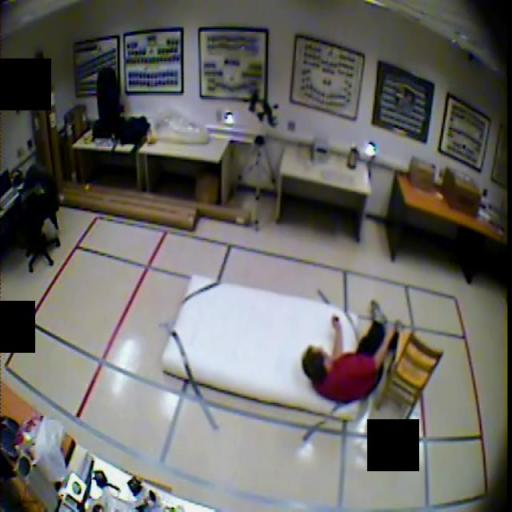Fall: (301, 299, 405, 404)
